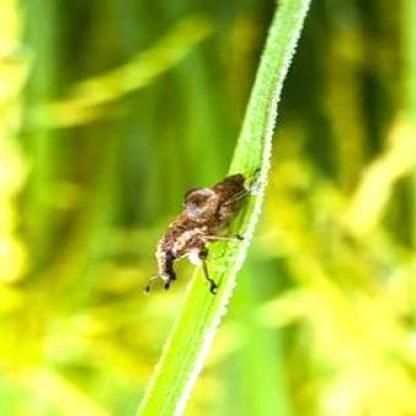rice-bug: (146, 172, 260, 294)
